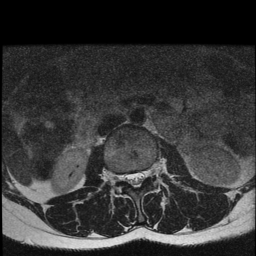CCS_stenosis: (131, 165, 138, 195)
LFS_normal: (146, 158, 154, 185)
LLS_normal: (138, 161, 147, 191)
RFS_normal: (115, 164, 123, 189)
RLS_normal: (123, 164, 131, 190)
